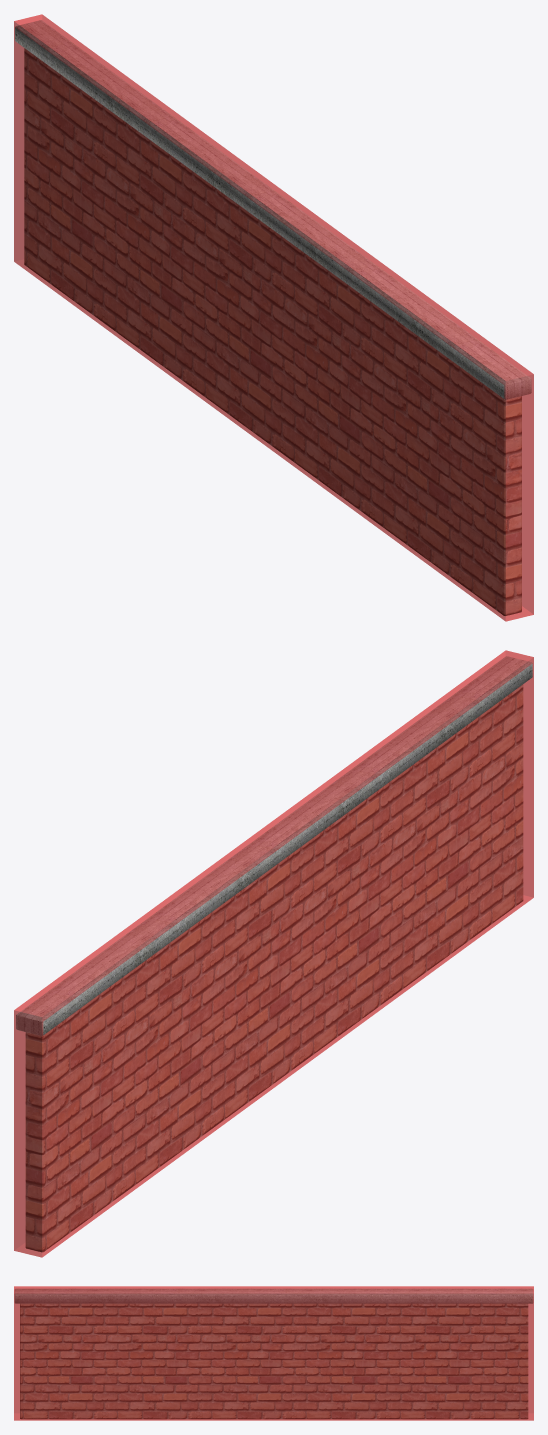
Rendered from pared.obj.
3 renders of one model, top to bottom at view 1: azimuth 30°, elevation 25°; view 2: azimuth 150°, elevation 25°; view 3: azimuth 270°, elevation 25°, orthographic. The views are drawn at different scales.
Visible parts, largest first — view 1: brick_wall_large; view 2: brick_wall_large; view 3: brick_wall_large.
Boxes of the visible parts, x1,y1,x2,y2 form: brick_wall_large: (14,14,533,621); brick_wall_large: (14,650,533,1257); brick_wall_large: (14,1286,533,1420).
Size of the model in its own units: 2.11 by 17.18 by 63.69.
3 materials, 2 textured.
